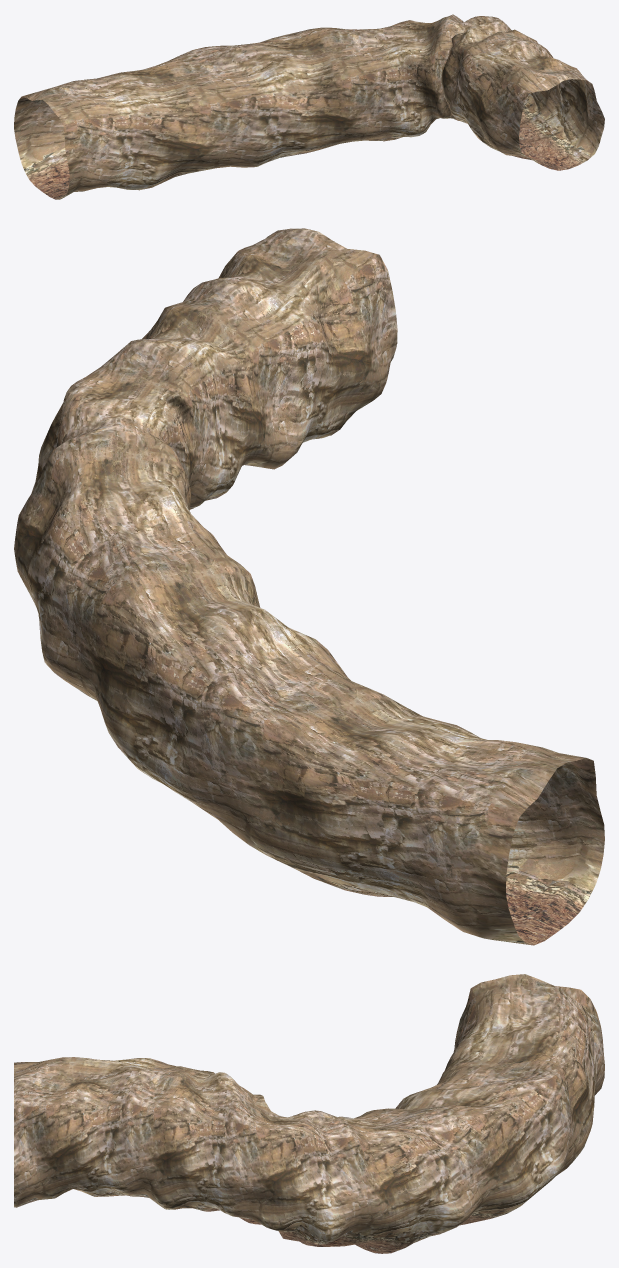
File: thm_tato_cave_s02_r10_mesh_r10.fbx
The picture shows the model from 3 angles, top to bottom: view 1: azimuth 30°, elevation 25°; view 2: azimuth 150°, elevation 25°; view 3: azimuth 270°, elevation 25°; orthographic projection. The views are drawn at different scales.
Visible parts, largest first — view 1: mesh_node; view 2: mesh_node; view 3: mesh_node.
Part boxes in pixels (x1,y1,x2,y2): mesh_node: [14, 14, 604, 199]; mesh_node: [14, 228, 604, 945]; mesh_node: [14, 974, 604, 1253].
Size of the model in its own units: 41.3 by 19.02 by 41.91.
